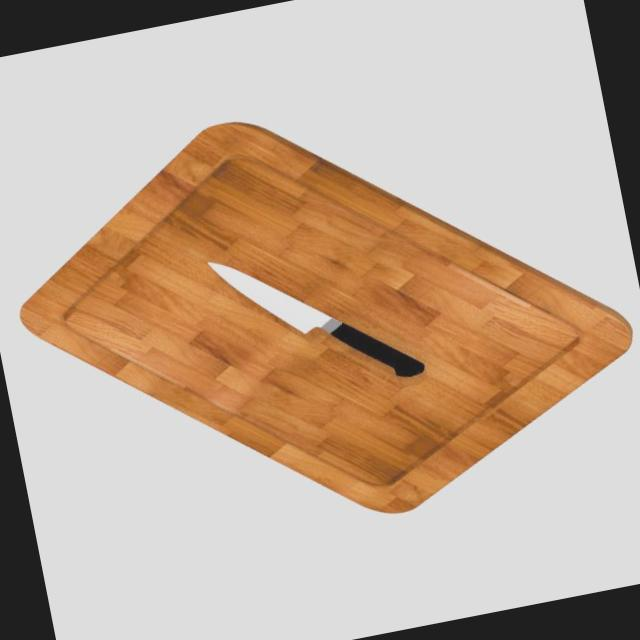knife: (328, 308, 426, 389)
